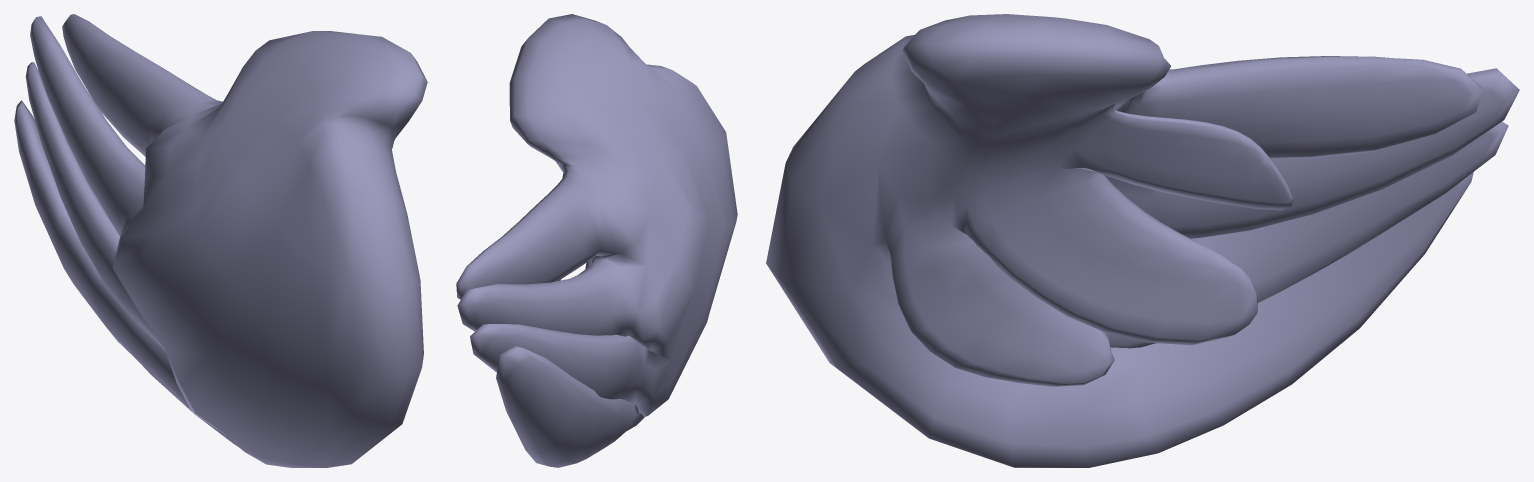
File: rightwing_closed.obj
3 renders of one model, left to right at view 1: azimuth 30°, elevation 25°; view 2: azimuth 150°, elevation 25°; view 3: azimuth 270°, elevation 25°, orthographic. The views are drawn at different scales.
Visible parts, largest first — view 1: vn_alternatedash_right_wing_normal_closed; view 2: vn_alternatedash_right_wing_normal_closed; view 3: vn_alternatedash_right_wing_normal_closed.
Part boxes in pixels (x1,y1,x2,y2): vn_alternatedash_right_wing_normal_closed: (14,14,427,467); vn_alternatedash_right_wing_normal_closed: (456,14,737,467); vn_alternatedash_right_wing_normal_closed: (766,14,1519,467).
Size of the model in its own units: 5.43 by 9.86 by 13.99.
